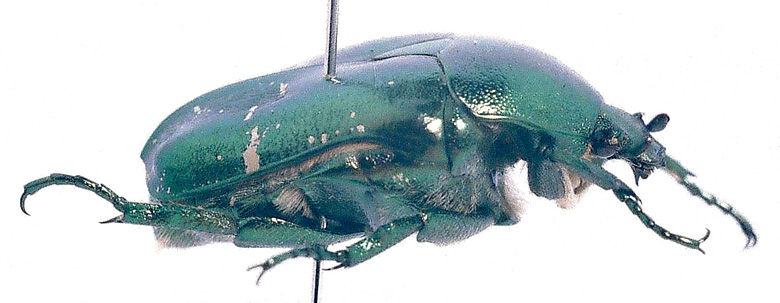Protaetia_fieberi: (14, 12, 767, 280)
